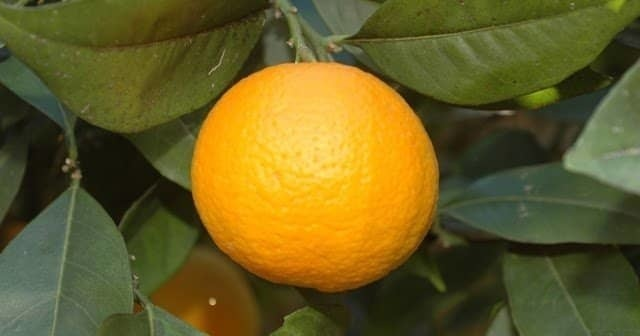orange: (187, 59, 445, 293)
